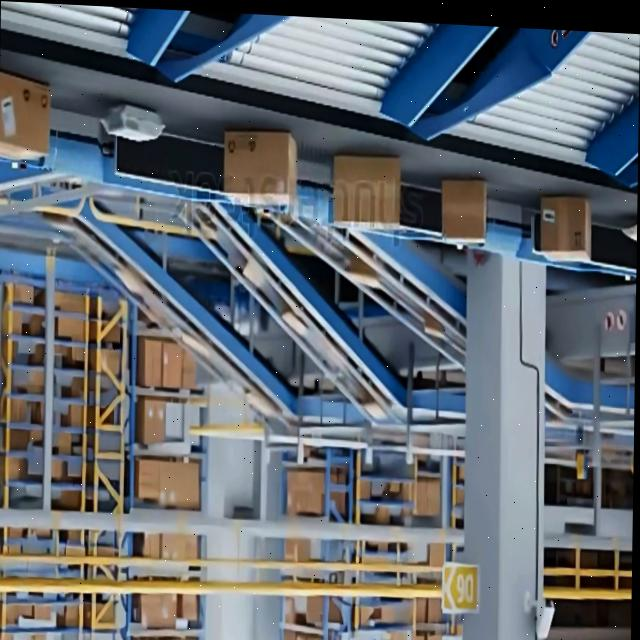product 1: (221, 127, 299, 219), (332, 152, 401, 227), (440, 176, 487, 246)
product 2: (121, 102, 166, 144)
